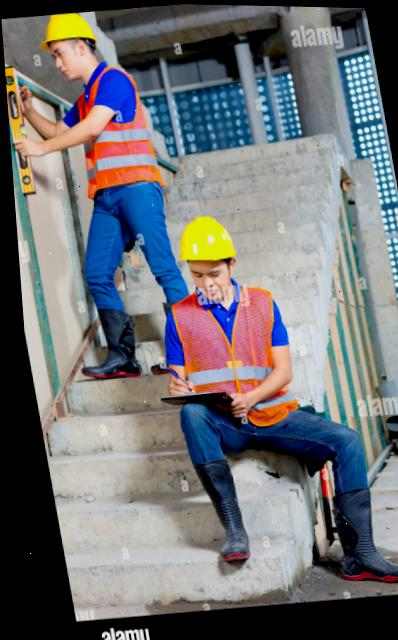helmet: (171, 205, 240, 267), (33, 10, 99, 55)
vest: (169, 280, 284, 424), (70, 66, 152, 198)
